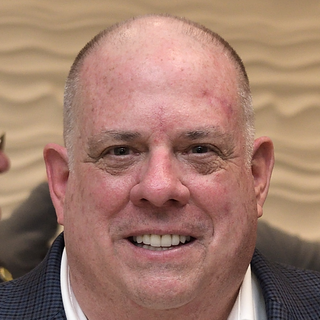eye: (95, 140, 145, 165), (179, 141, 225, 163)
